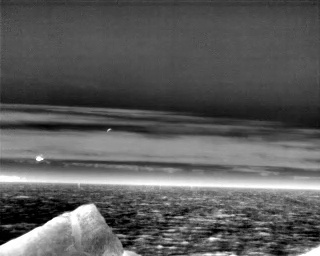HELICOPTER: (33, 152, 47, 165)
